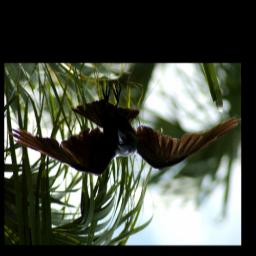Crow: (10, 84, 240, 177)
